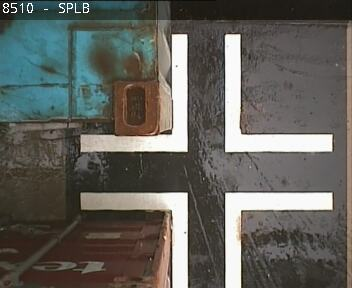groundmarker_1: (79, 35, 333, 152), (80, 191, 334, 288)
